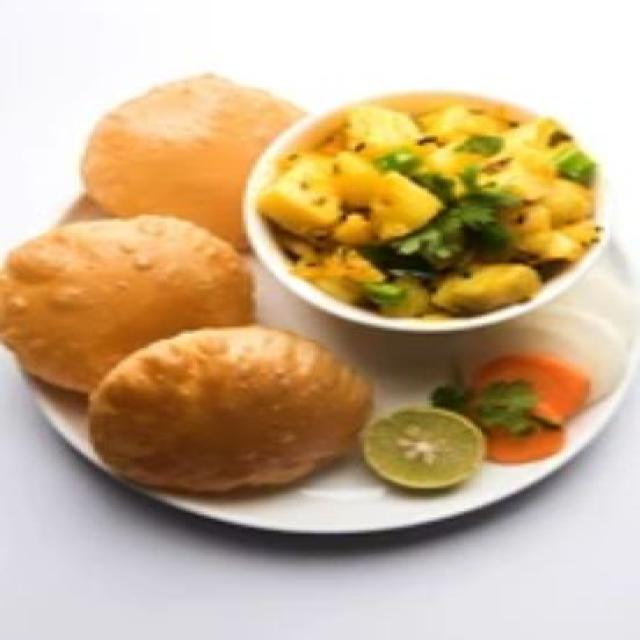POORI: (8, 54, 374, 521)
VEGGIES: (252, 86, 604, 322)
